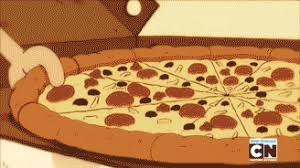pizza: (11, 43, 300, 140)
